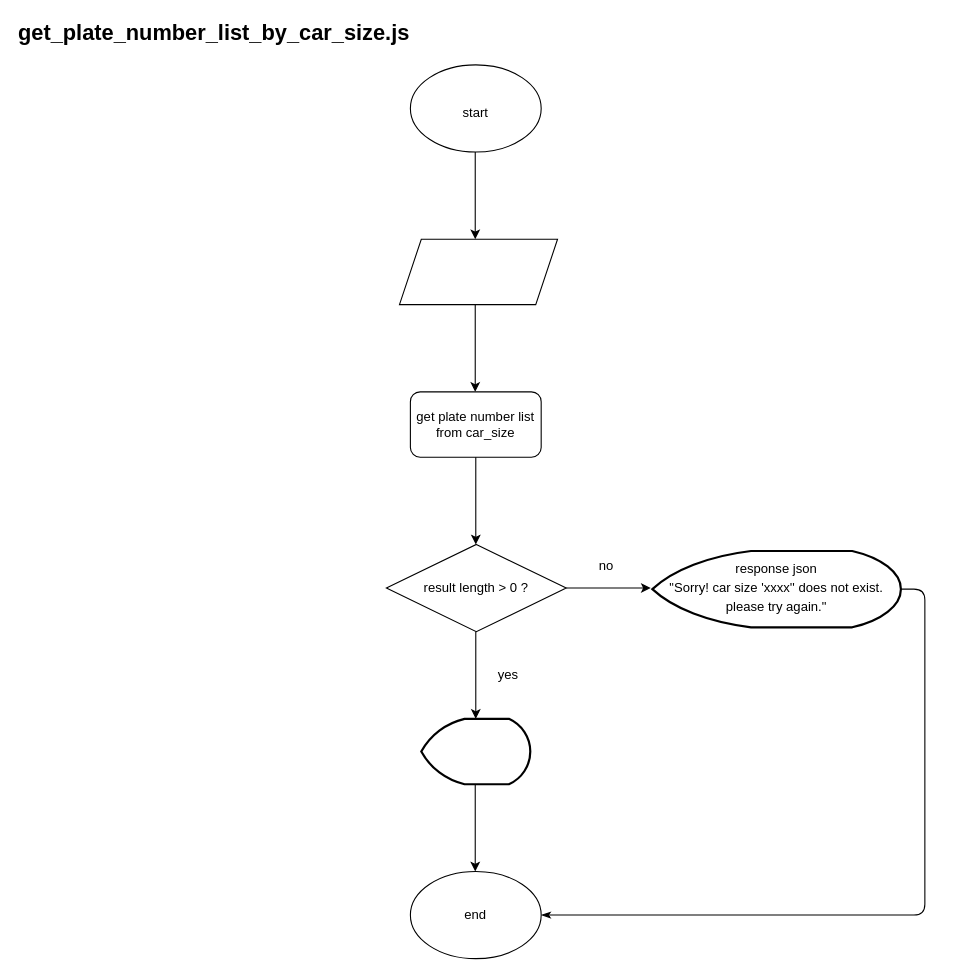
Some shapes in this 953 by 978 pixel diagram are drawn without their labels. The shapes that lost their labels are listed below. From the top down, each one's centre as x and y in pixels, then its label:
At (x=478, y=271): "get data from req car_size".
At (x=475, y=751): "response result by json".
